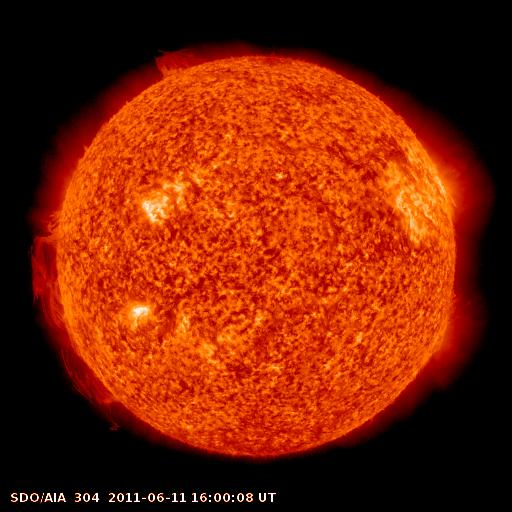prominence: (22, 206, 135, 430), (151, 44, 219, 82)
